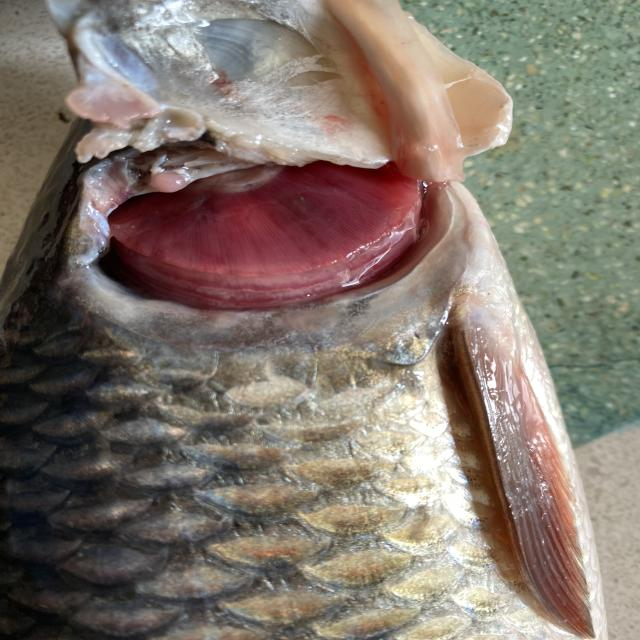Fresh: (51, 130, 492, 346)
